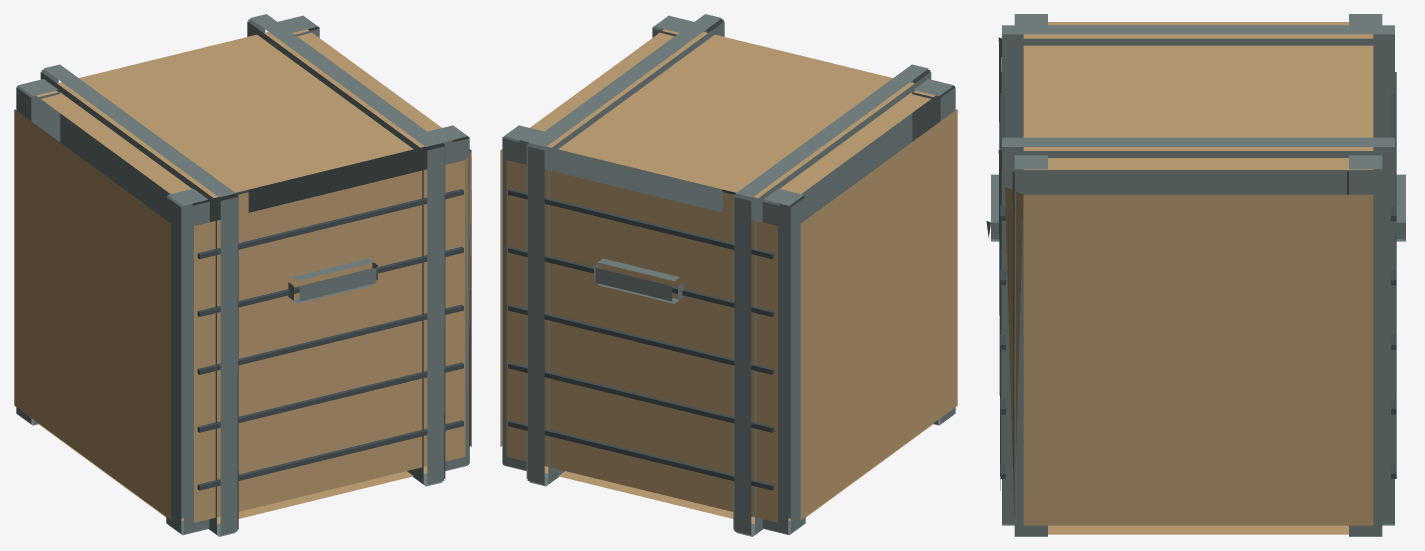
The model's file is crate.glb.
3 renders of one model, left to right at view 1: azimuth 30°, elevation 25°; view 2: azimuth 150°, elevation 25°; view 3: azimuth 270°, elevation 25°, orthographic. The views are drawn at different scales.
Visible parts, largest first — view 1: CrateBody, Band.001, Band, Detail corner guard, Detail corner guard.002, Detail handle, Detail corner guard.001, Detail plank seam, Detail plank seam.002, Detail plank seam.004, Detail plank seam.008, Detail plank seam.006; view 2: CrateBody, Band.001, Band, Detail corner guard.001, Detail corner guard.003, Detail handle.001, Detail corner guard, Detail plank seam.005, Detail plank seam.001, Detail plank seam.009, Detail plank seam.003, Detail plank seam.007; view 3: CrateBody, Band.001, Band, Detail corner guard.003, Detail corner guard.002, Detail handle.001, Detail handle, Detail plank seam.009.
Part boxes in pixels (bbox=[...]): CrateBody: bbox=[14, 29, 471, 524]; Band.001: bbox=[247, 14, 445, 486]; Band: bbox=[40, 64, 238, 536]; Detail corner guard: bbox=[166, 188, 209, 535]; Detail corner guard.002: bbox=[427, 125, 469, 470]; Detail handle: bbox=[288, 258, 377, 303]; Detail corner guard.001: bbox=[16, 79, 60, 425]; Detail plank seam: bbox=[197, 420, 463, 490]; Detail plank seam.002: bbox=[197, 362, 463, 432]; Detail plank seam.004: bbox=[197, 304, 463, 374]; Detail plank seam.008: bbox=[197, 189, 463, 259]; Detail plank seam.006: bbox=[197, 246, 463, 316]; CrateBody: bbox=[500, 29, 957, 524]; Band.001: bbox=[526, 14, 724, 486]; Band: bbox=[733, 64, 931, 536]; Detail corner guard.001: bbox=[762, 188, 805, 535]; Detail corner guard.003: bbox=[502, 125, 544, 470]; Detail handle.001: bbox=[594, 258, 683, 303]; Detail corner guard: bbox=[911, 79, 955, 425]; Detail plank seam.005: bbox=[508, 304, 774, 374]; Detail plank seam.001: bbox=[508, 420, 774, 490]; Detail plank seam.009: bbox=[508, 189, 774, 259]; Detail plank seam.003: bbox=[508, 362, 774, 432]; Detail plank seam.007: bbox=[508, 246, 774, 316]; CrateBody: bbox=[1005, 22, 1373, 534]; Band.001: bbox=[998, 137, 1394, 525]; Band: bbox=[998, 25, 1394, 149]; Detail corner guard.003: bbox=[1347, 155, 1382, 536]; Detail corner guard.002: bbox=[1012, 155, 1047, 536]; Detail handle.001: bbox=[1395, 174, 1405, 241]; Detail handle: bbox=[986, 174, 1001, 241]; Detail plank seam.009: bbox=[1391, 72, 1396, 220].
Size of the model in its own units: 1.25 by 1.35 by 1.37.
